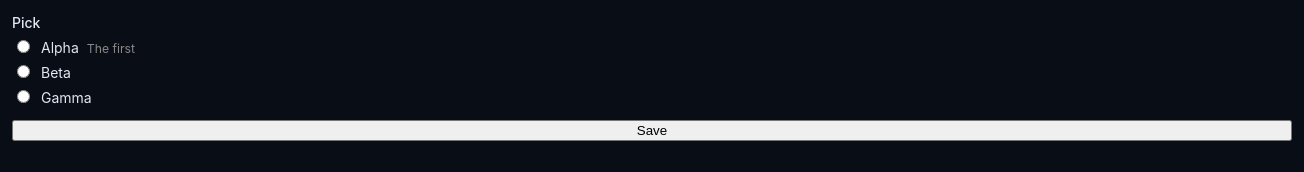
Test: choice: preview layout (§5.6/§12.3) › preview markdown shows BESIDE the options at regular width
Focus the radio button labelled "Beta": (24, 72) [17,65,30,78]
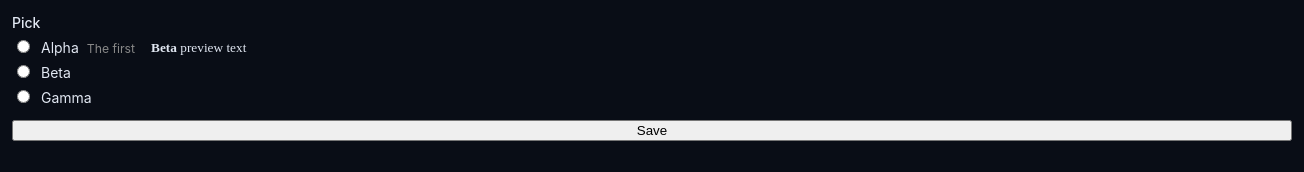
expect the text "Beta" is shown: met, box [41,62,71,83]
expect the element showing "Beta preview text" is shown: met, box [151,40,246,55]
